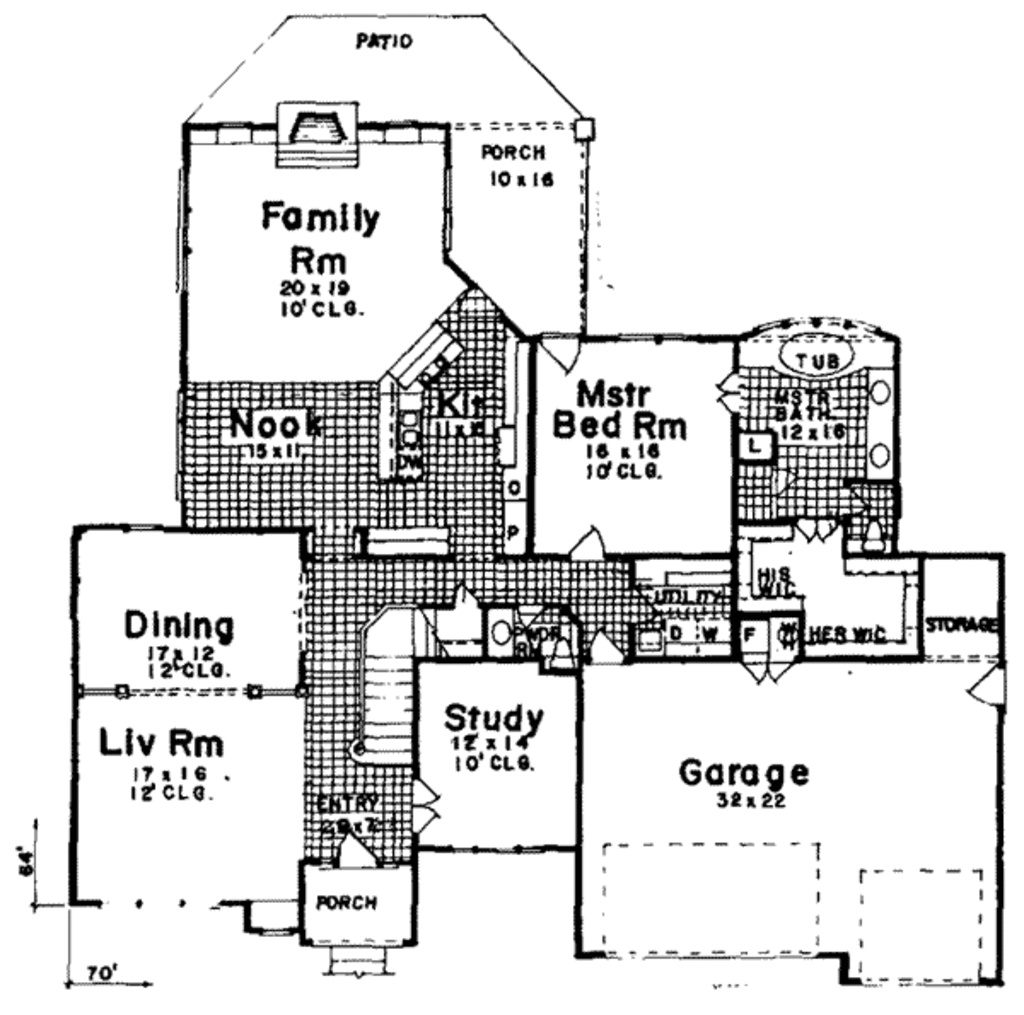door: (410, 771, 456, 844), (964, 647, 1012, 714), (534, 325, 586, 385), (325, 828, 393, 872), (737, 663, 812, 693), (563, 528, 621, 563), (712, 369, 747, 425), (788, 507, 842, 541), (585, 631, 625, 666)
large_sink: (859, 517, 901, 555), (548, 630, 582, 672)
small_sink: (855, 366, 901, 479), (475, 604, 528, 669)
stairs: (350, 590, 436, 785)
window: (437, 156, 466, 260)
